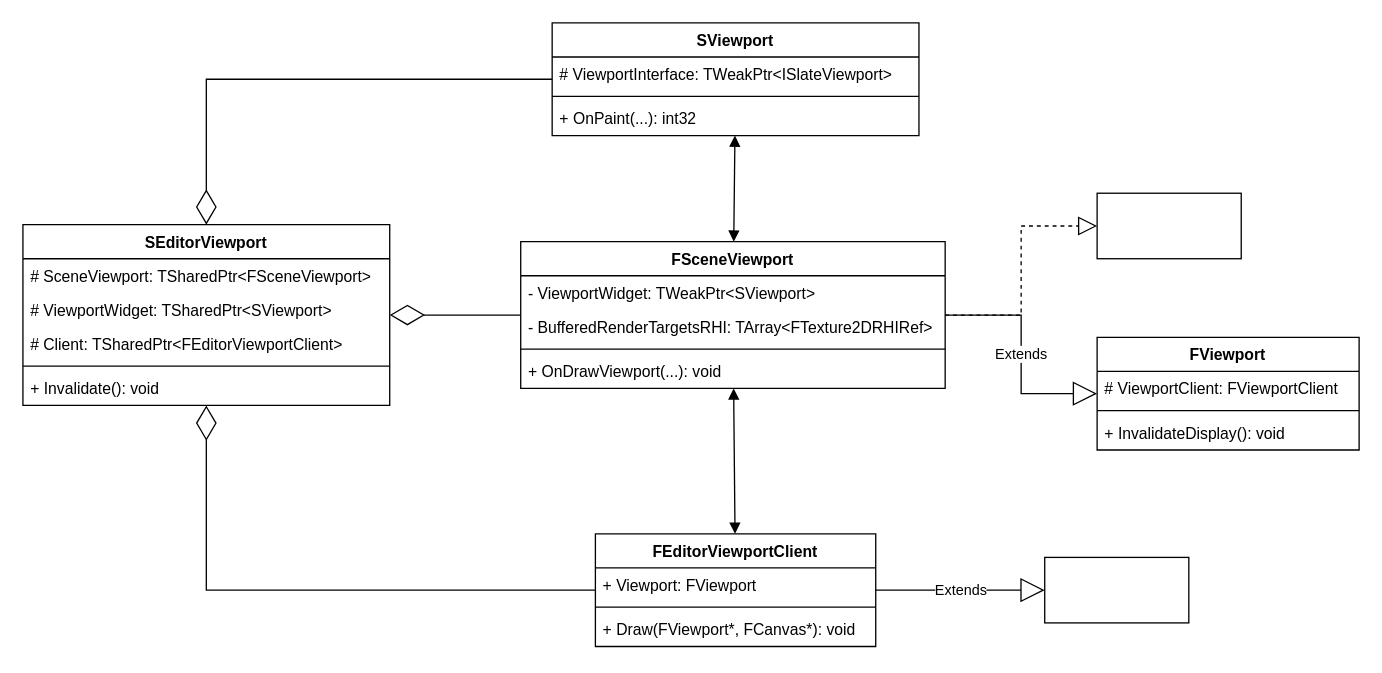
The diagram is 1382 pixels wide and 673 high, and some of its shapes have lost their labels. The shapes that lost their labels are listed below. From the top down, each one's centre as x and y in pixels, then its label:
At (1168,225): "«interface» ISlateViewport".
At (1116,589): "«interface» FViewportClient".
